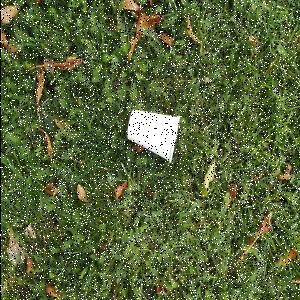Cup: (125, 108, 182, 168)
